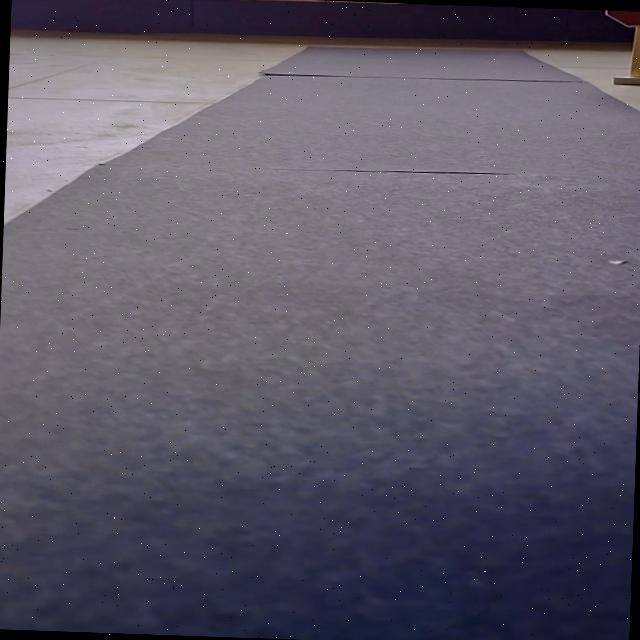Stop: (603, 9, 640, 26)
